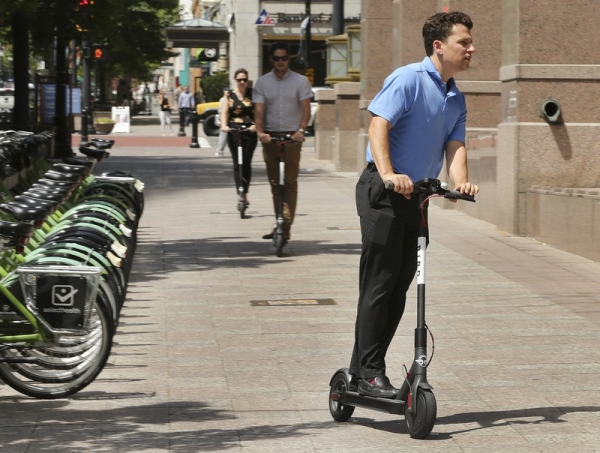scooter: (327, 172, 479, 440), (254, 121, 306, 262), (215, 118, 262, 221)
